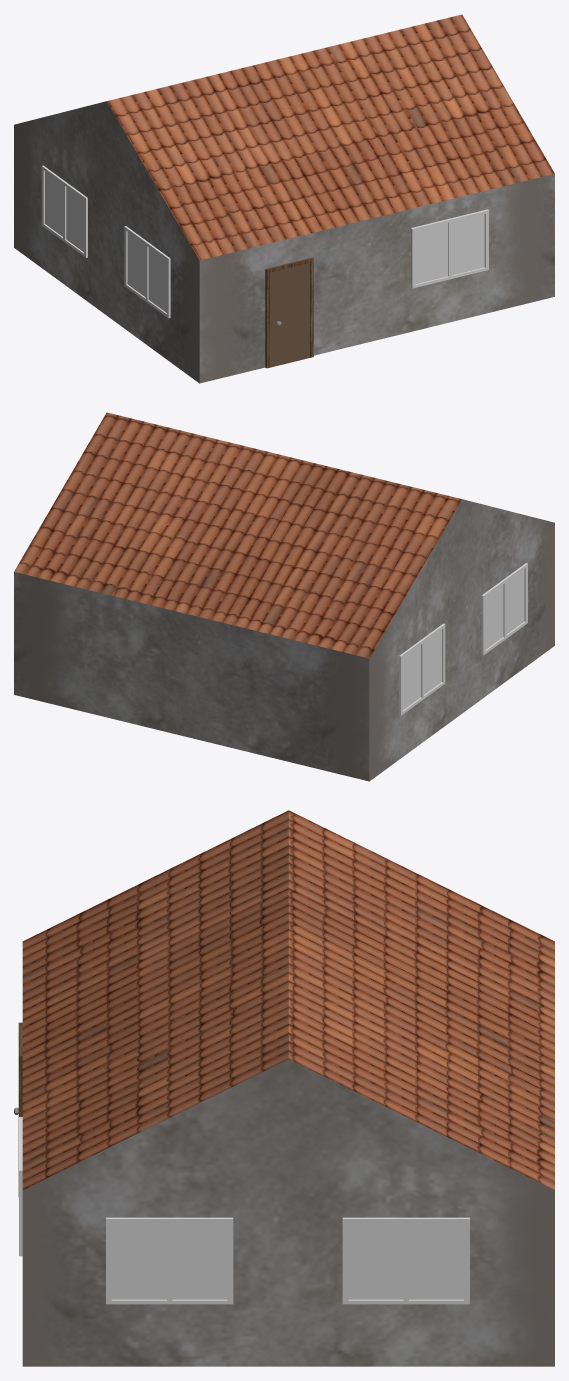
The model's file is HOUSE_02.fbx.
3 views of the same model, one above another, from view 1: azimuth 30°, elevation 25°; view 2: azimuth 150°, elevation 25°; view 3: azimuth 270°, elevation 25° (orthographic). The views are drawn at different scales.
Visible parts, largest first — view 1: HOUSE_02; view 2: HOUSE_02; view 3: HOUSE_02.
Boxes of the visible parts, <box> form: HOUSE_02: <box>14,14,554,383</box>; HOUSE_02: <box>14,412,554,781</box>; HOUSE_02: <box>14,810,554,1366</box>.
Size of the model in its own units: 814 by 465 by 741.
